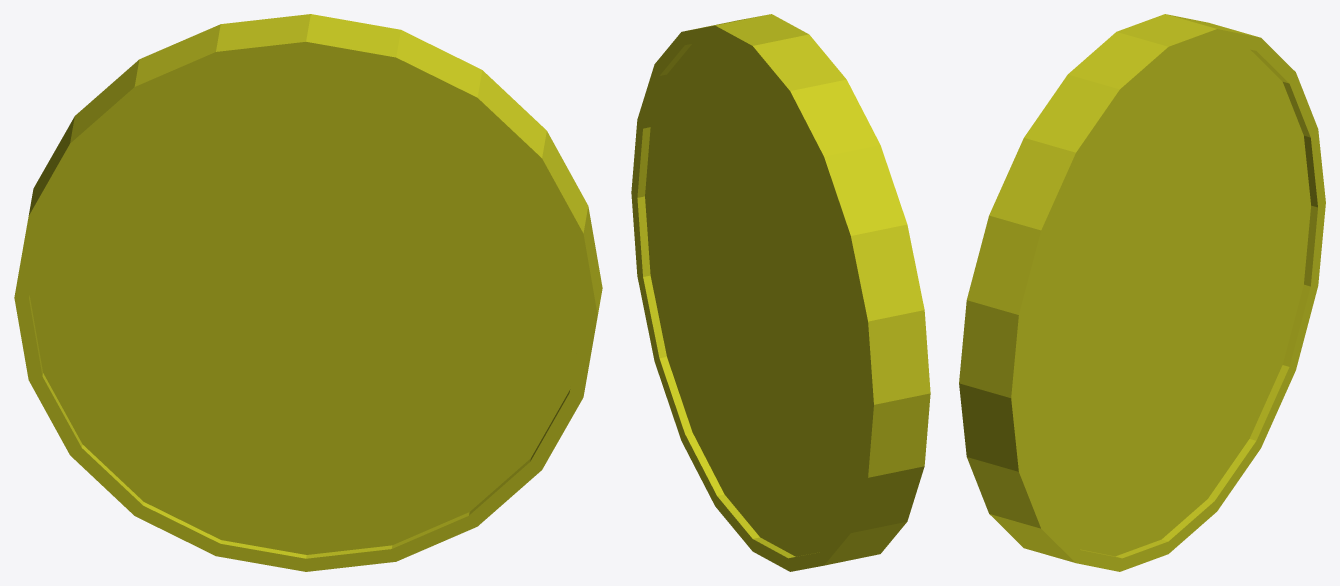
Rendered from Low Poly Coin_000151.obj.
The picture shows the model from 3 angles, left to right: view 1: azimuth 30°, elevation 25°; view 2: azimuth 150°, elevation 25°; view 3: azimuth 270°, elevation 25°; orthographic projection. The views are drawn at different scales.
Parts seen in each view (by area): view 1: Cylinder; view 2: Cylinder; view 3: Cylinder.
Part boxes in pixels (box(x1,y1,x2,y2)): Cylinder: box(14, 14, 602, 571); Cylinder: box(631, 14, 930, 571); Cylinder: box(959, 14, 1325, 571).
Size of the model in its own units: 1.78 by 2 by 1.31.
